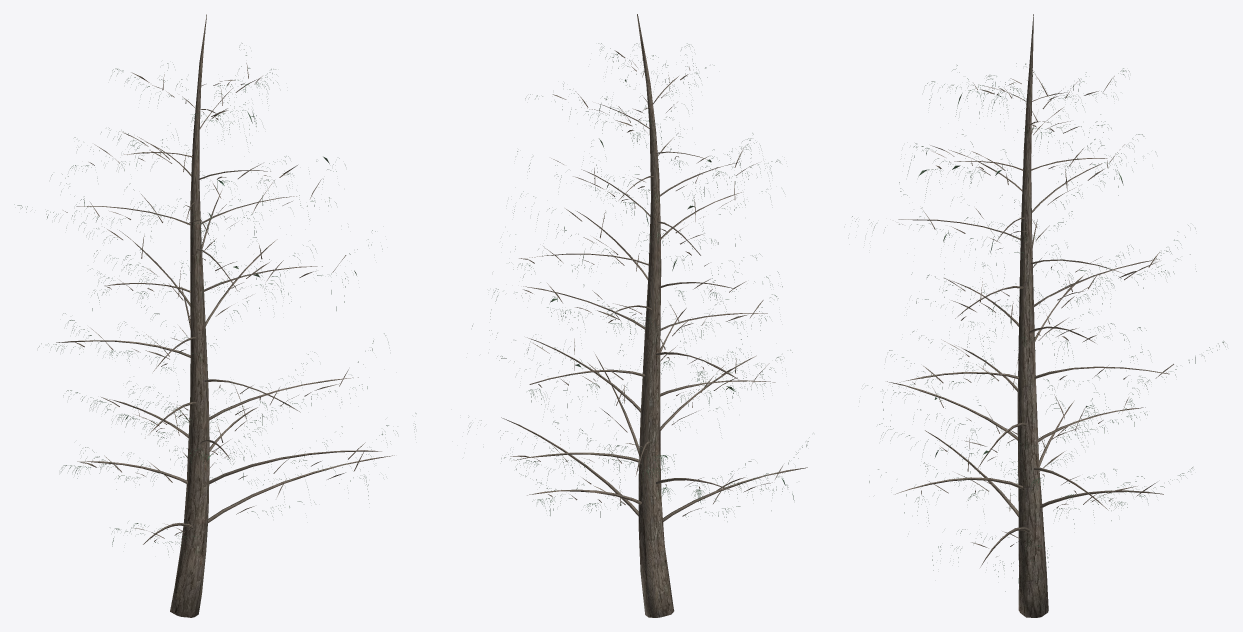
The model's file is casuarina-2-lite.glb.
3 views of the same model, side by side, from view 1: azimuth 30°, elevation 25°; view 2: azimuth 150°, elevation 25°; view 3: azimuth 270°, elevation 25° (orthographic). The views are drawn at different scales.
Visible parts, largest first — view 1: bark, branchlets; view 2: bark, branchlets; view 3: bark, branchlets.
Part boxes in pixels (bbox=[...]): bark: bbox=[56, 14, 394, 617]; branchlets: bbox=[14, 43, 416, 554]; bark: bbox=[501, 14, 807, 617]; branchlets: bbox=[468, 43, 809, 521]; bark: bbox=[887, 14, 1173, 617]; branchlets: bbox=[852, 63, 1225, 591].
Bounding box in the file's own units: 1.29 × 2.11 × 1.21.
Materials: 2 (2 with a texture image).
